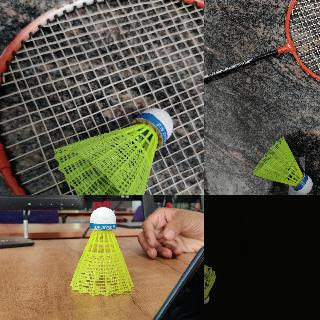shuttlecock: (53, 108, 173, 194), (68, 207, 134, 296), (252, 138, 312, 192), (204, 264, 216, 304)
